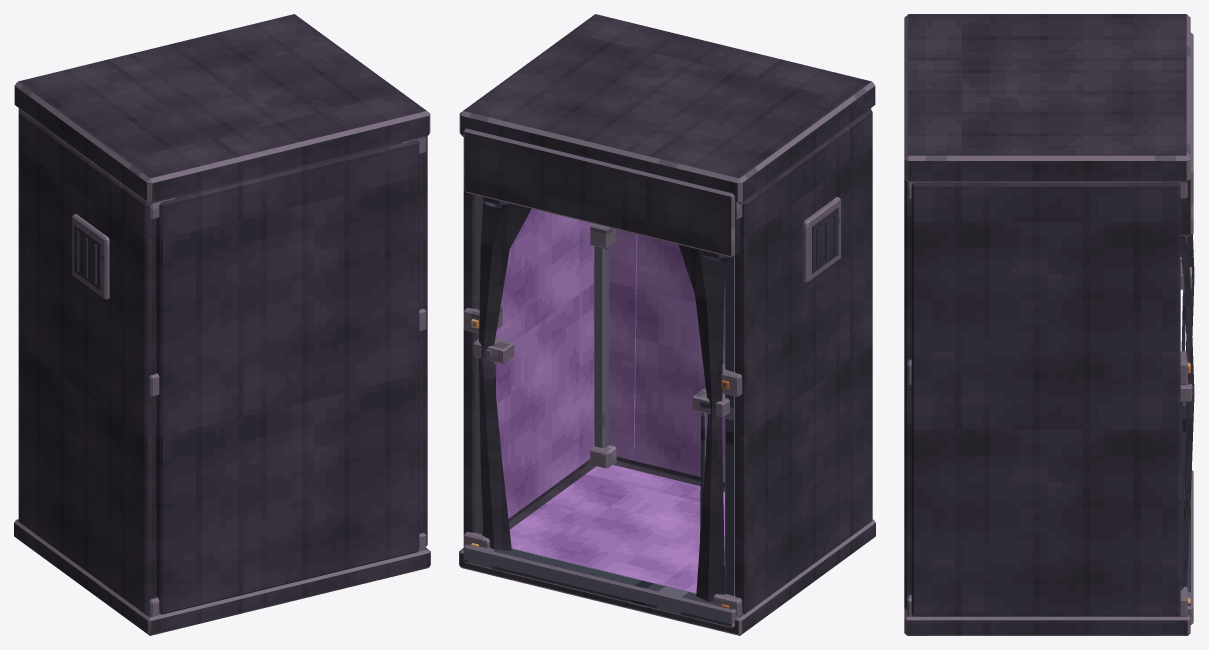
The model's file is placed_grow_tent_2.obj.
3 renders of one model, left to right at view 1: azimuth 30°, elevation 25°; view 2: azimuth 150°, elevation 25°; view 3: azimuth 270°, elevation 25°, orthographic. The views are drawn at different scales.
Visible parts, largest first — view 1: model; view 2: model; view 3: model.
Boxes of the visible parts, left/top/right/bottom form: model: left=14, top=14, right=430, bottom=635; model: left=459, top=14, right=875, bottom=635; model: left=904, top=14, right=1194, bottom=635.
Bounding box in the file's own units: 1.53 × 2.31 × 1.27.
